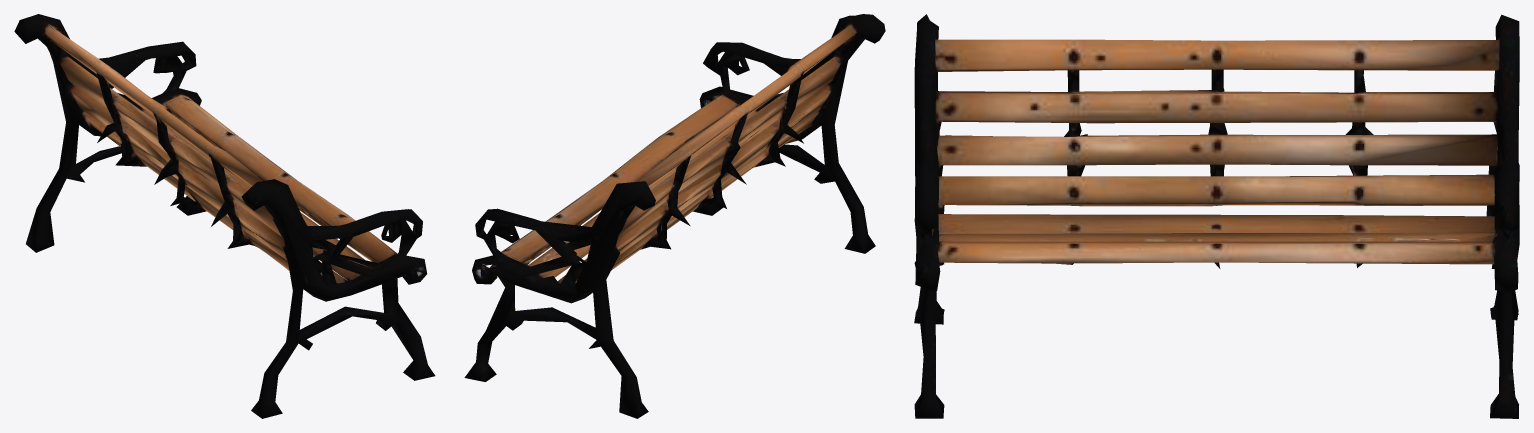
Rendered from bench.glb.
3 views of the same model, side by side, from view 1: azimuth 30°, elevation 25°; view 2: azimuth 150°, elevation 25°; view 3: azimuth 270°, elevation 25° (orthographic). The views are drawn at different scales.
Parts seen in each view (by area): view 1: bench; view 2: bench; view 3: bench.
Part boxes in pixels (x1,y1,x2,y2): bench: (14,14,435,418); bench: (464,14,885,418); bench: (914,14,1519,418).
Bounding box in the file's own units: 0.7132 × 0.8463 × 1.56.
1 material, 1 textured.
